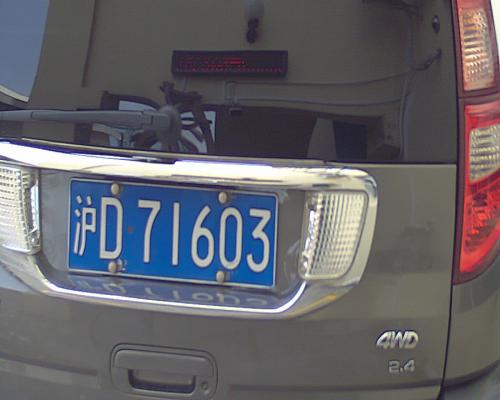Carplate: (61, 170, 284, 293)
